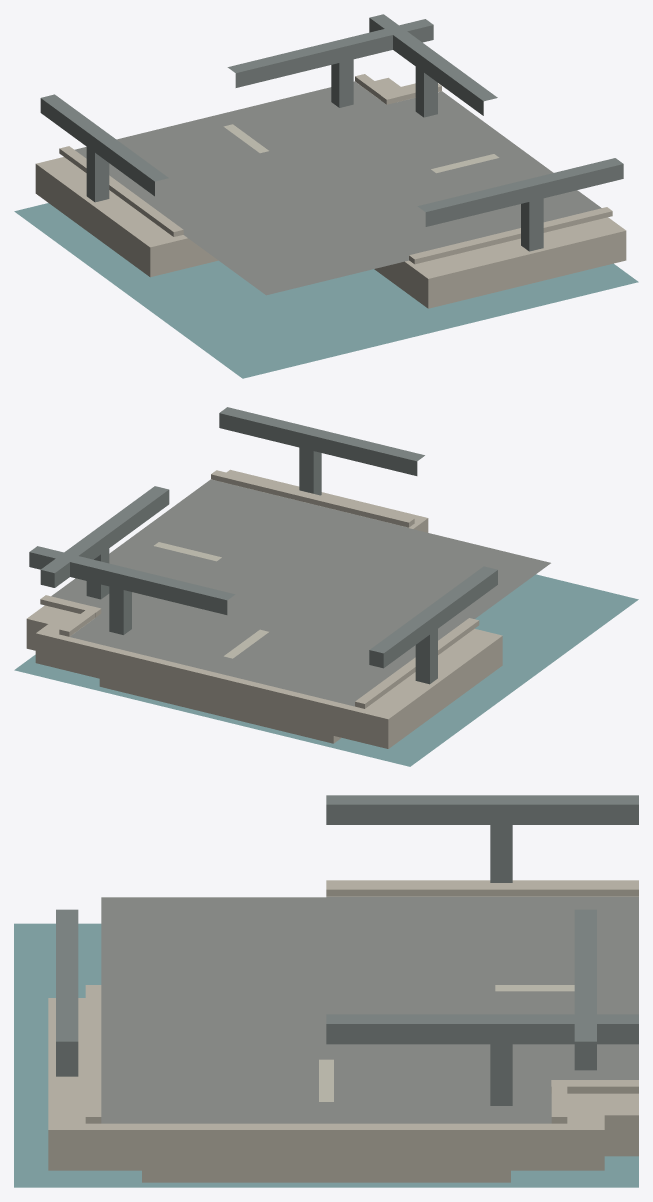
3 views of the same model, one above another, from view 1: azimuth 30°, elevation 25°; view 2: azimuth 150°, elevation 25°; view 3: azimuth 270°, elevation 25° (orthographic). The views are drawn at different scales.
Parts seen in each view (by area): view 1: Near; view 2: Near; view 3: Near.
Part boxes in pixels (<box>): Near: <box>14,14,638,378</box>; Near: <box>14,407,638,766</box>; Near: <box>14,795,638,1187</box>.
Size of the model in its own units: 1 by 0.258 by 1.
